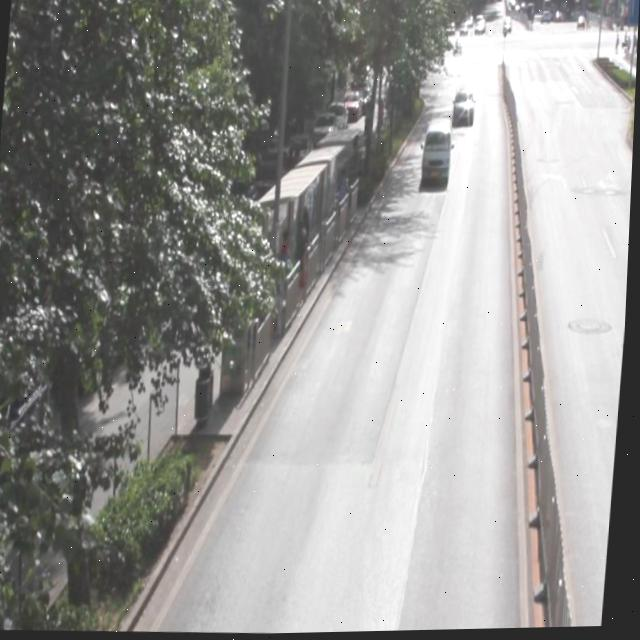car: (450, 90, 475, 129)
truck: (419, 120, 453, 183)
